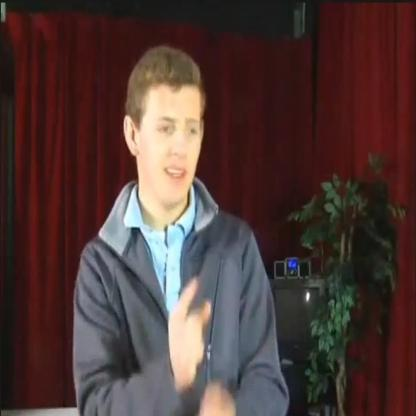NiceToMeetYou: (167, 251, 256, 416)
